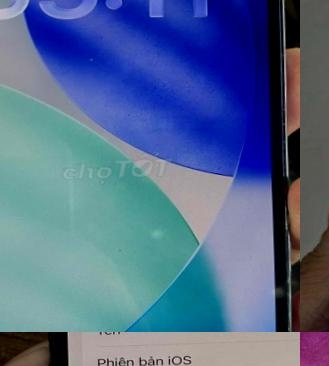scratch: (311, 358, 329, 366)
